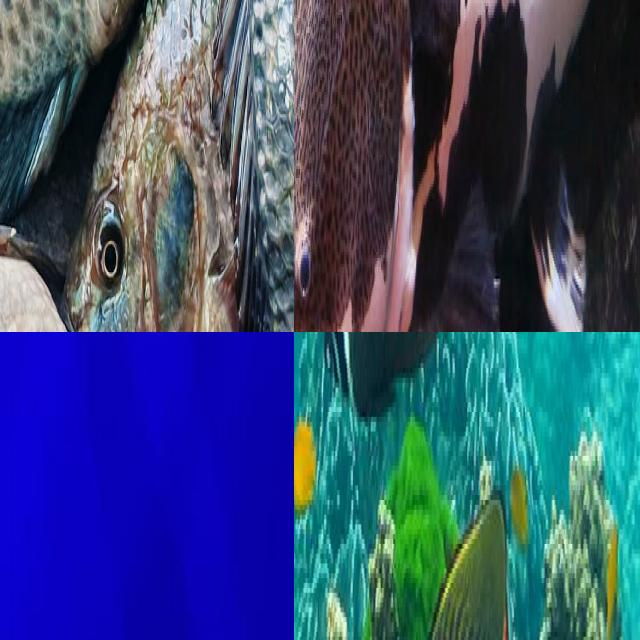fish: (311, 0, 640, 332), (0, 0, 294, 332)
